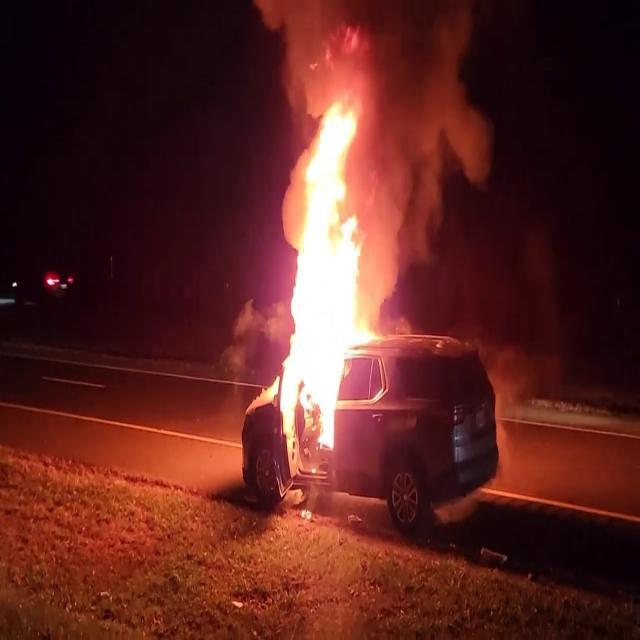Fire: (266, 88, 384, 442)
Smoke: (358, 0, 498, 284)
